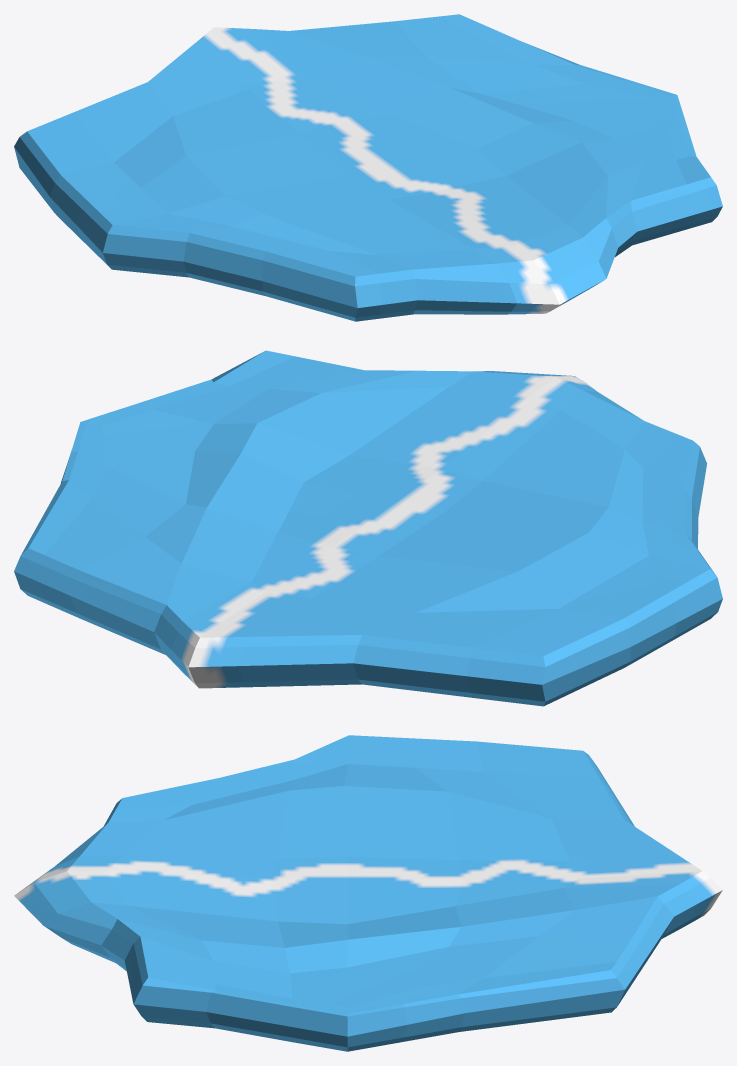
Rendered from BreakIce.fbx.
3 views of the same model, one above another, from view 1: azimuth 30°, elevation 25°; view 2: azimuth 150°, elevation 25°; view 3: azimuth 270°, elevation 25° (orthographic). The views are drawn at different scales.
Visible parts, largest first — view 1: Ice_ITA1:Ita_Ice1.002, Ice_ITA1:Ita_Ice1, Ice_ITA1:Ita_Ice1.008, Ice_ITA1:Ita_Ice1.001, Ice_ITA1:Ita_Ice1.007, Ice_ITA1:Ita_Ice1.003, Ice_ITA1:Ita_Ice1.004, Ice_ITA1:Ita_Ice1.006, Ice_ITA1:Ita_Ice1.005; view 2: Ice_ITA1:Ita_Ice1.002, Ice_ITA1:Ita_Ice1.001, Ice_ITA1:Ita_Ice1, Ice_ITA1:Ita_Ice1.008, Ice_ITA1:Ita_Ice1.003, Ice_ITA1:Ita_Ice1.004, Ice_ITA1:Ita_Ice1.007, Ice_ITA1:Ita_Ice1.006, Ice_ITA1:Ita_Ice1.005; view 3: Ice_ITA1:Ita_Ice1.002, Ice_ITA1:Ita_Ice1, Ice_ITA1:Ita_Ice1.007, Ice_ITA1:Ita_Ice1.008, Ice_ITA1:Ita_Ice1.004, Ice_ITA1:Ita_Ice1.001, Ice_ITA1:Ita_Ice1.003, Ice_ITA1:Ita_Ice1.006, Ice_ITA1:Ita_Ice1.005.
Part boxes in pixels (left/top/right/bottom): Ice_ITA1:Ita_Ice1.002: left=103, top=149, right=606, bottom=321; Ice_ITA1:Ita_Ice1: left=173, top=78, right=476, bottom=196; Ice_ITA1:Ita_Ice1.008: left=307, top=54, right=642, bottom=224; Ice_ITA1:Ita_Ice1.001: left=14, top=82, right=225, bottom=268; Ice_ITA1:Ita_Ice1.007: left=427, top=57, right=696, bottom=163; Ice_ITA1:Ita_Ice1.003: left=148, top=27, right=357, bottom=115; Ice_ITA1:Ita_Ice1.004: left=290, top=14, right=578, bottom=65; Ice_ITA1:Ita_Ice1.006: left=631, top=156, right=722, bottom=245; Ice_ITA1:Ita_Ice1.005: left=555, top=163, right=642, bottom=308; Ice_ITA1:Ita_Ice1.002: left=304, top=371, right=716, bottom=576; Ice_ITA1:Ita_Ice1.001: left=353, top=533, right=722, bottom=706; Ice_ITA1:Ita_Ice1: left=252, top=482, right=588, bottom=612; Ice_ITA1:Ita_Ice1.008: left=146, top=386, right=448, bottom=580; Ice_ITA1:Ita_Ice1.003: left=154, top=564, right=415, bottom=688; Ice_ITA1:Ita_Ice1.004: left=14, top=480, right=181, bottom=654; Ice_ITA1:Ita_Ice1.007: left=60, top=379, right=268, bottom=536; Ice_ITA1:Ita_Ice1.006: left=211, top=350, right=363, bottom=388; Ice_ITA1:Ita_Ice1.005: left=269, top=370, right=472, bottom=392; Ice_ITA1:Ita_Ice1.002: left=14, top=735, right=348, bottom=925; Ice_ITA1:Ita_Ice1: left=344, top=786, right=577, bottom=924; Ice_ITA1:Ita_Ice1.007: left=206, top=936, right=538, bottom=1051; Ice_ITA1:Ita_Ice1.008: left=128, top=888, right=574, bottom=973; Ice_ITA1:Ita_Ice1.004: left=458, top=896, right=673, bottom=1031; Ice_ITA1:Ita_Ice1.001: left=344, top=735, right=634, bottom=826; Ice_ITA1:Ita_Ice1.003: left=551, top=818, right=722, bottom=938; Ice_ITA1:Ita_Ice1.006: left=124, top=937, right=215, bottom=1028; Ice_ITA1:Ita_Ice1.005: left=15, top=896, right=213, bottom=971.
Size of the model in its own units: 784 by 73.19 by 833.
